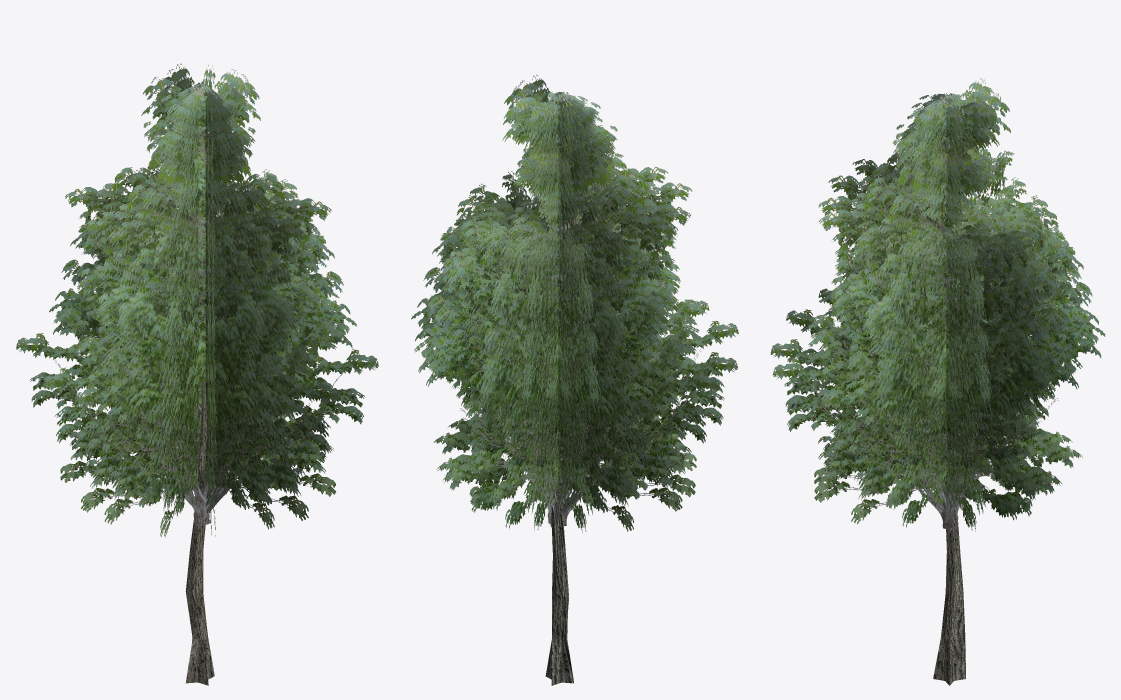
Rendered from tree4.fbx.
3 views of the same model, side by side, from view 1: azimuth 30°, elevation 25°; view 2: azimuth 150°, elevation 25°; view 3: azimuth 270°, elevation 25° (orthographic).
Parts seen in each view (by area): view 1: tree4.002; view 2: tree4.002; view 3: tree4.002.
Part boxes in pixels (bbox=[...]): tree4.002: bbox=[16, 63, 378, 685]; tree4.002: bbox=[411, 74, 738, 685]; tree4.002: bbox=[770, 78, 1105, 685].
Size of the model in its own units: 19.26 by 37.04 by 19.26.
2 materials, 2 textured.
